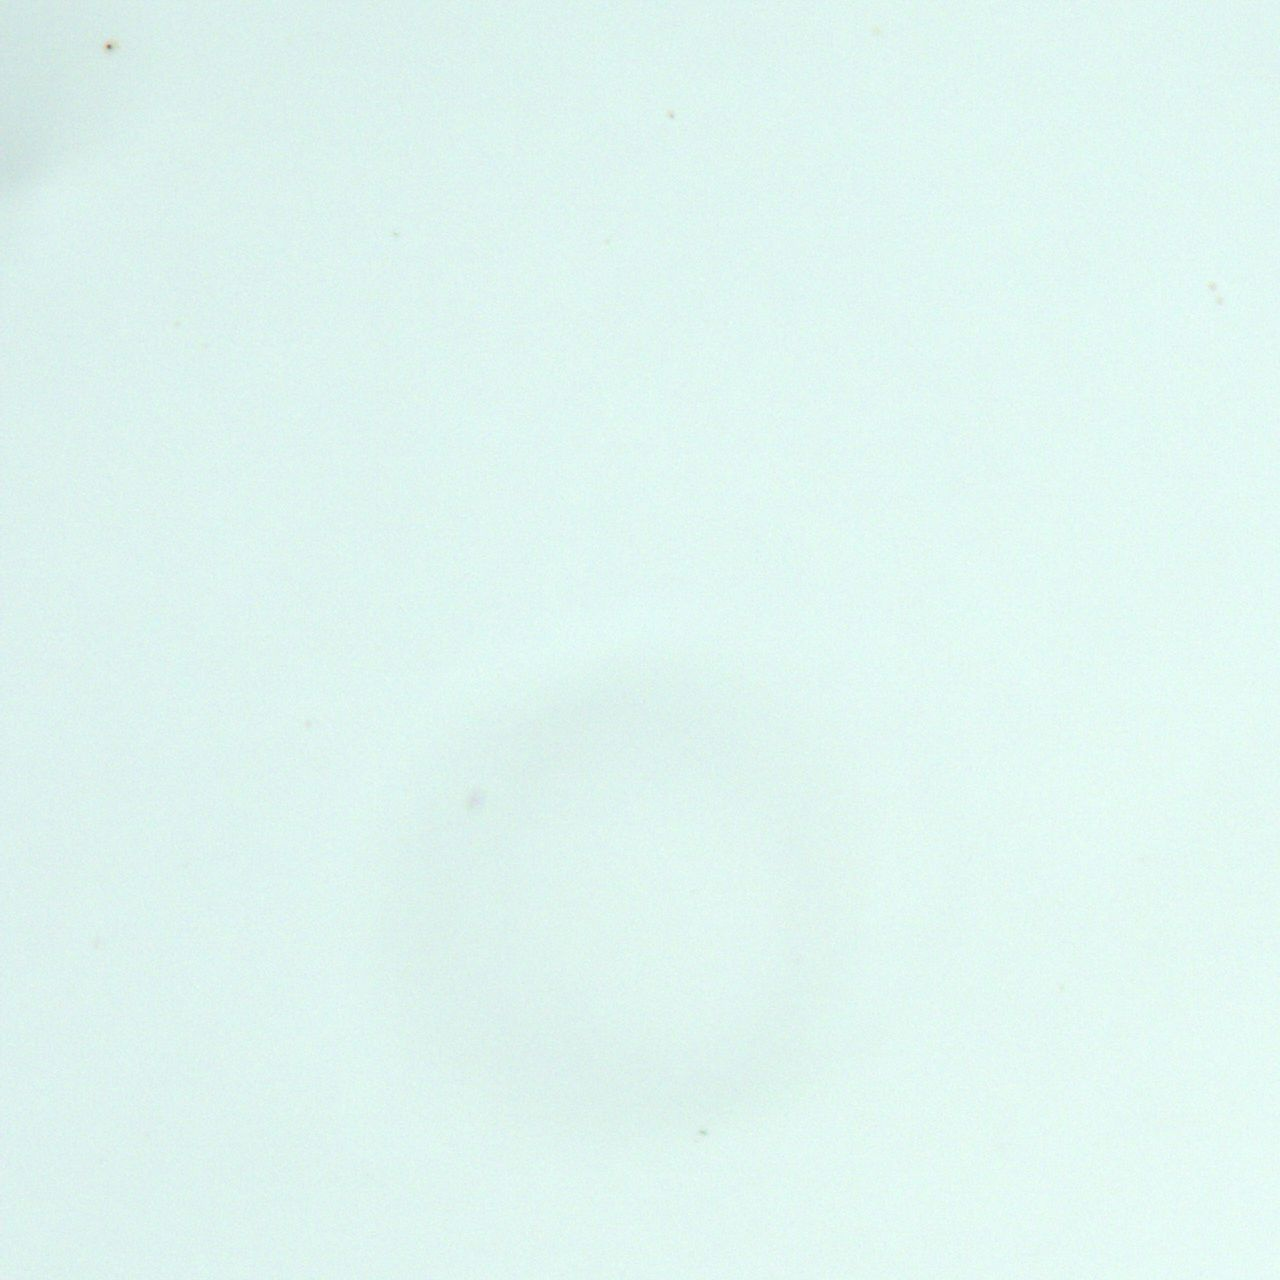dust: (104, 42, 114, 50)
